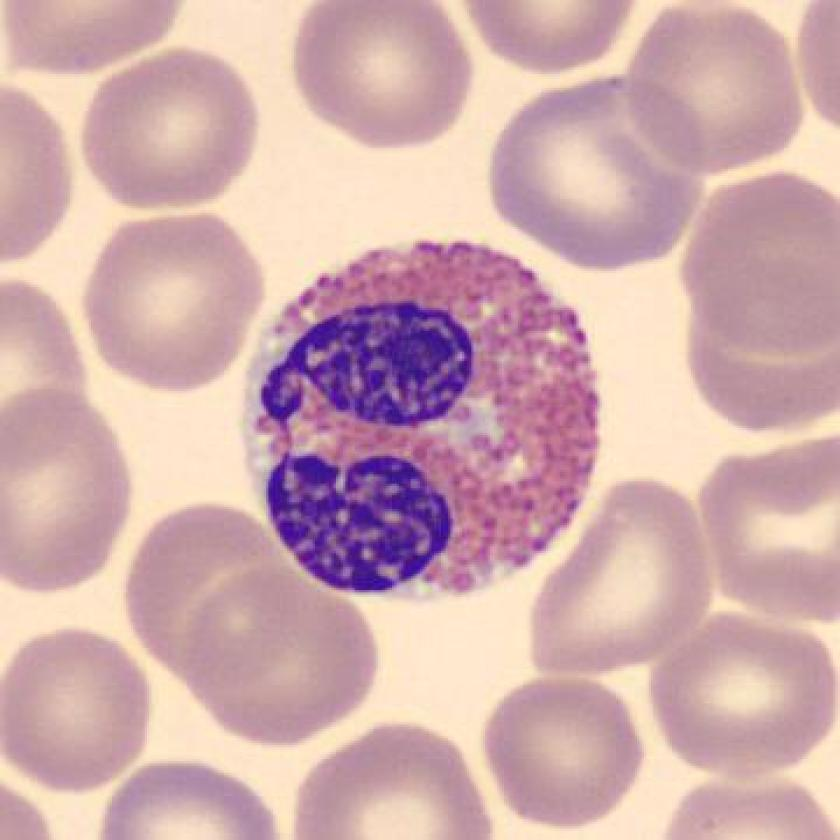eosinophil: (227, 230, 617, 610)
